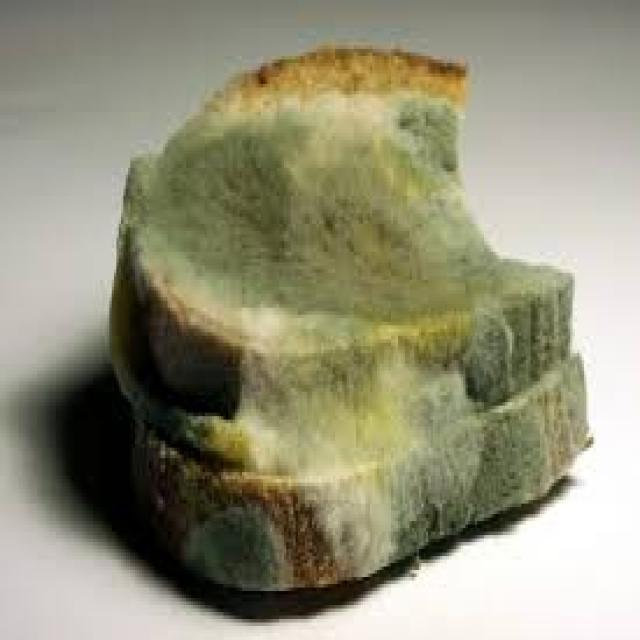food_waste: (109, 45, 589, 588)
